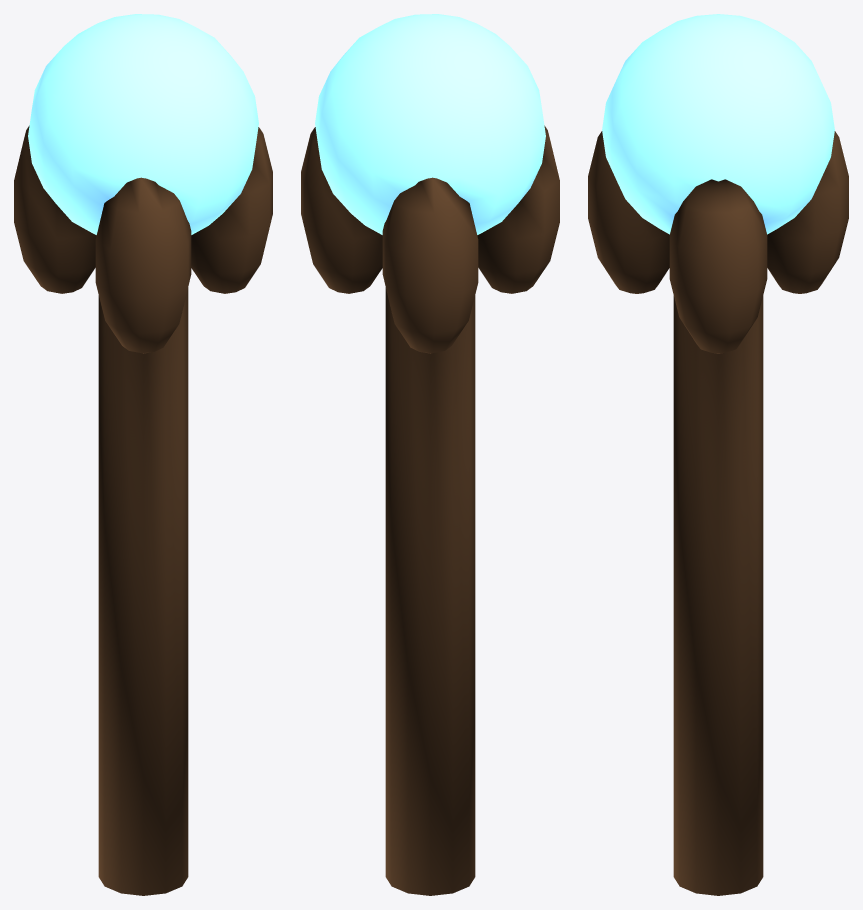
Rendered from staff.glb.
3 views of the same model, side by side, from view 1: azimuth 30°, elevation 25°; view 2: azimuth 150°, elevation 25°; view 3: azimuth 270°, elevation 25° (orthographic).
Visible parts, largest first — view 1: staff; view 2: staff; view 3: staff.
Boxes of the visible parts, x1,y1,x2,y2 form: staff: (14,14,272,895); staff: (301,14,559,895); staff: (588,14,848,895).
Bounding box in the file's own units: 0.1148 × 0.42 × 0.1164.
